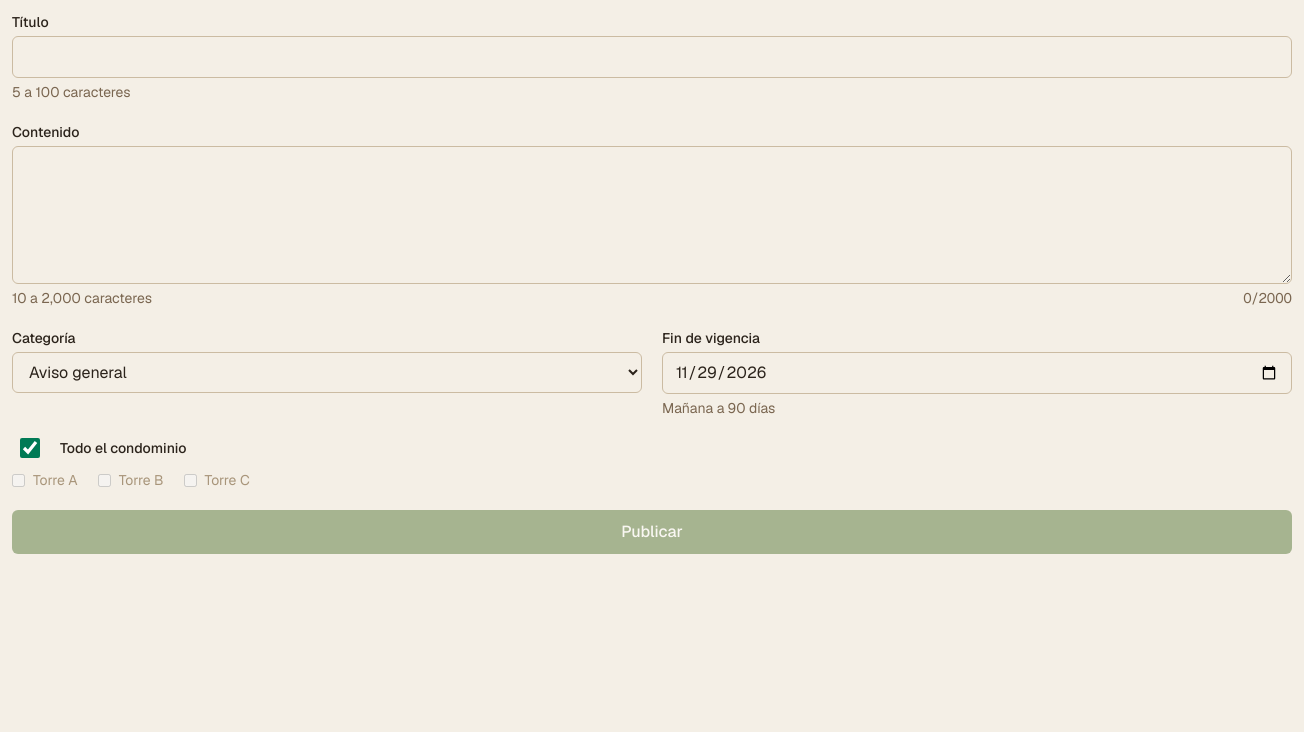
Test: H25. Publicación de comunicados segmentados › AC1: pide título, contenido con contador, categoría, audiencia y fin de vigencia de mañana a 90 días
Check: the text "5 a 100 caracteres" is shown, box [12,82,131,102]
Check: the text "10 a 2,000 caracteres" is shown, box [12,288,152,308]
Type "Sin agua" into the text box labelled "Contenido". click: (652, 215)
box: [12,146,1292,284]
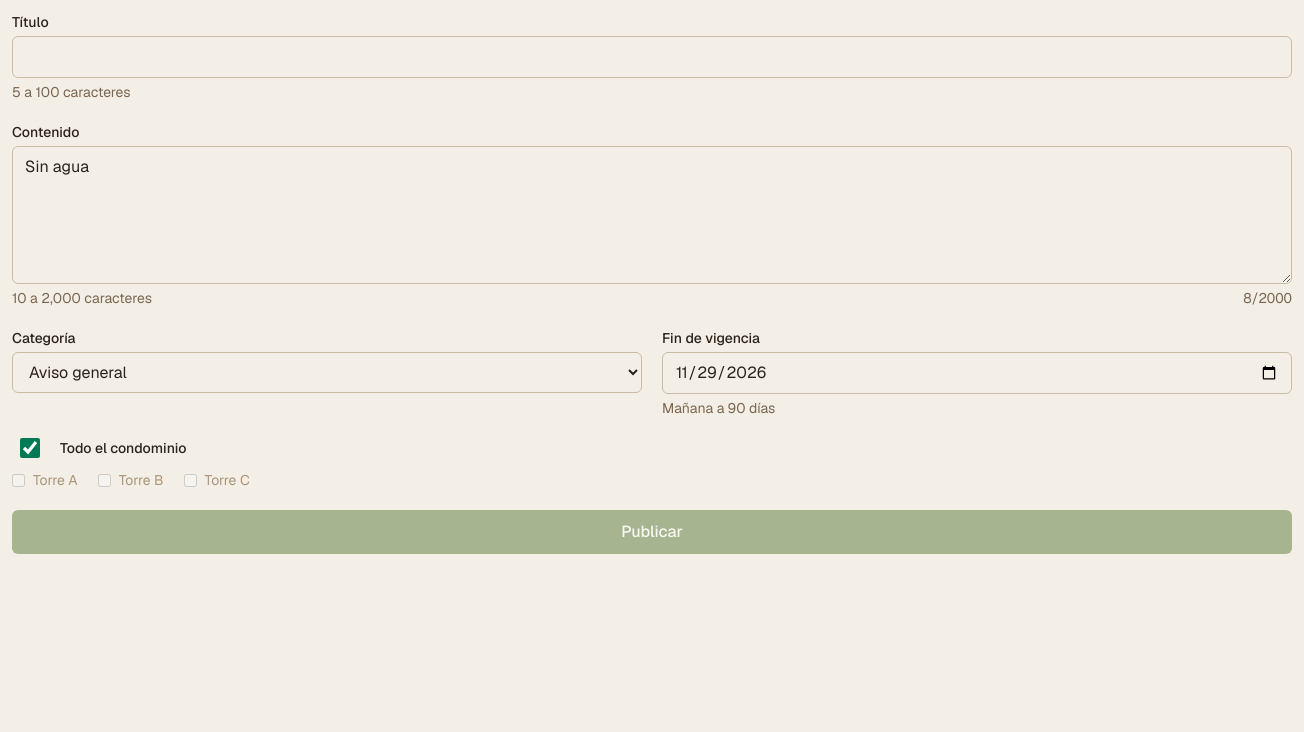
Check: the switch labelled "Todo el condominio" is checked, box [12,438,48,458]
Check: the text "8/2000" is shown, box [1243,288,1292,308]
